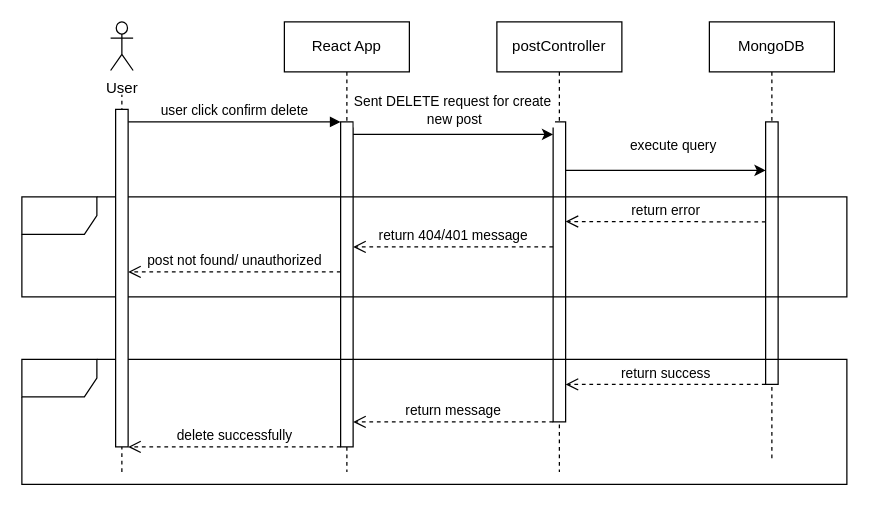
The diagram is 869 pixels wide and 506 high, and some of its shapes have lost their labels. The shapes that lost their labels are listed below. From the top down, each one's centre as x and y in pixels, then its label:
At (x=434, y=246): "error".
At (x=434, y=421): "success".
